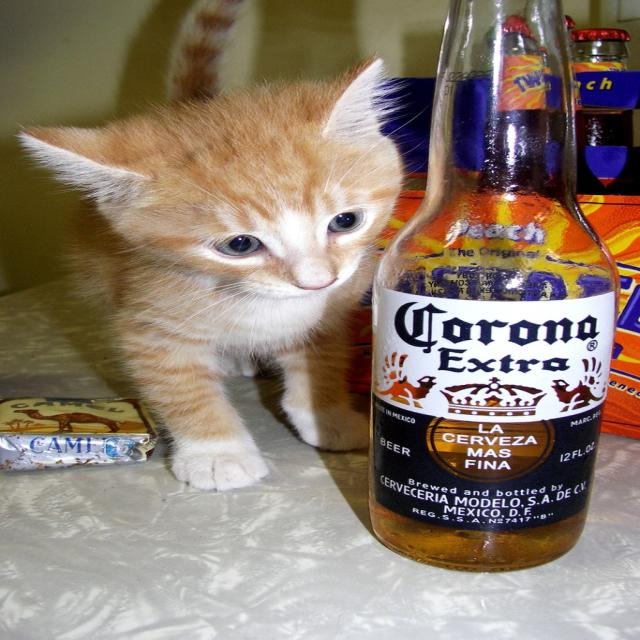corona: (373, 286, 616, 533)
